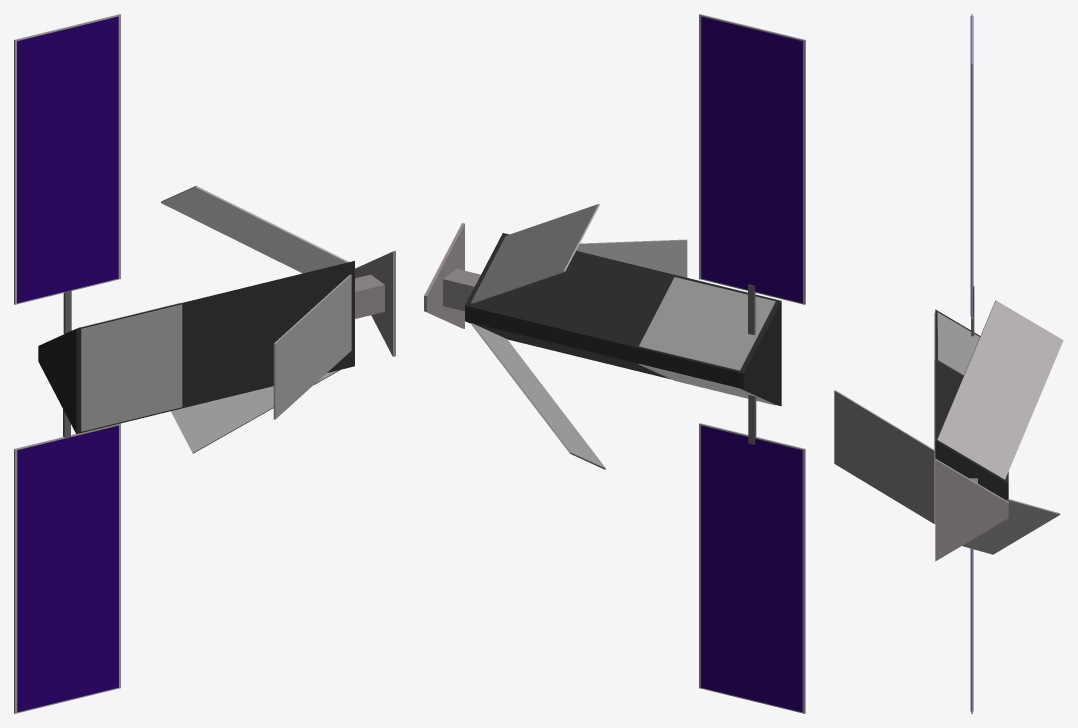
The model's file is iridium_low.gltf.
3 renders of one model, left to right at view 1: azimuth 30°, elevation 25°; view 2: azimuth 150°, elevation 25°; view 3: azimuth 270°, elevation 25°, orthographic. The views are drawn at different scales.
Parts seen in each view (by area): view 1: Cube.142, Cube.137, Cube, Cube.012, Cube.044, Cube.017, Cube.105, Cube.140, Cube.136, Cube.144, Cube.143; view 2: Cube.142, Cube.137, Cube, Cube.001, Cube.017, Cube.105, Cube.044, Cube.140, Cube.136, Cube.144, Cube.143, Cube.008; view 3: Cube.017, Cube.044, Cube.144, Cube, Cube.105, Cube.001, Cube.142, Cube.140, Cube.137.
Boxes of the visible parts, x1,y1,x2,y2 form: Cube.142: (17, 16, 118, 303); Cube.137: (17, 425, 118, 712); Cube: (38, 261, 354, 433); Cube.012: (81, 304, 182, 431); Cube.044: (273, 274, 351, 419); Cube.017: (161, 185, 349, 273); Cube.105: (171, 369, 340, 453); Cube.140: (14, 14, 120, 304); Cube.136: (14, 423, 120, 713); Cube.144: (355, 251, 395, 356); Cube.143: (355, 274, 384, 318); Cube.142: (701, 16, 802, 303); Cube.137: (701, 425, 802, 712); Cube: (465, 233, 781, 406); Cube.001: (639, 277, 775, 370); Cube.017: (471, 204, 599, 303); Cube.105: (470, 323, 605, 469); Cube.044: (576, 239, 687, 277); Cube.140: (699, 14, 805, 304); Cube.136: (699, 423, 805, 713); Cube.144: (424, 223, 464, 328); Cube.143: (443, 269, 480, 311); Cube.008: (638, 364, 775, 405); Cube.017: (937, 300, 1063, 479); Cube.044: (834, 390, 935, 523); Cube.144: (935, 458, 1008, 561); Cube: (935, 309, 1008, 500); Cube.105: (962, 499, 1060, 554); Cube.001: (937, 312, 979, 375); Cube.142: (970, 16, 973, 316); Cube.140: (971, 14, 972, 318); Cube.137: (970, 549, 973, 711).
Size of the model in its own units: 7.19 by 12.76 by 4.08.
